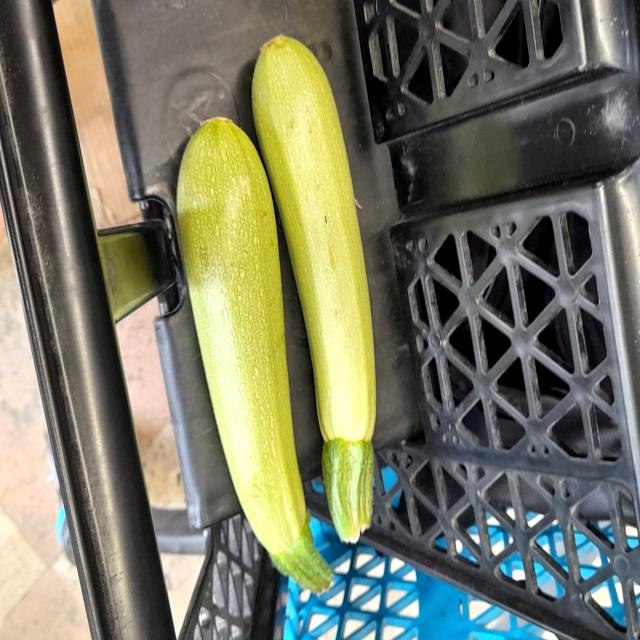zucchini: (166, 102, 336, 634), (250, 26, 384, 552)
